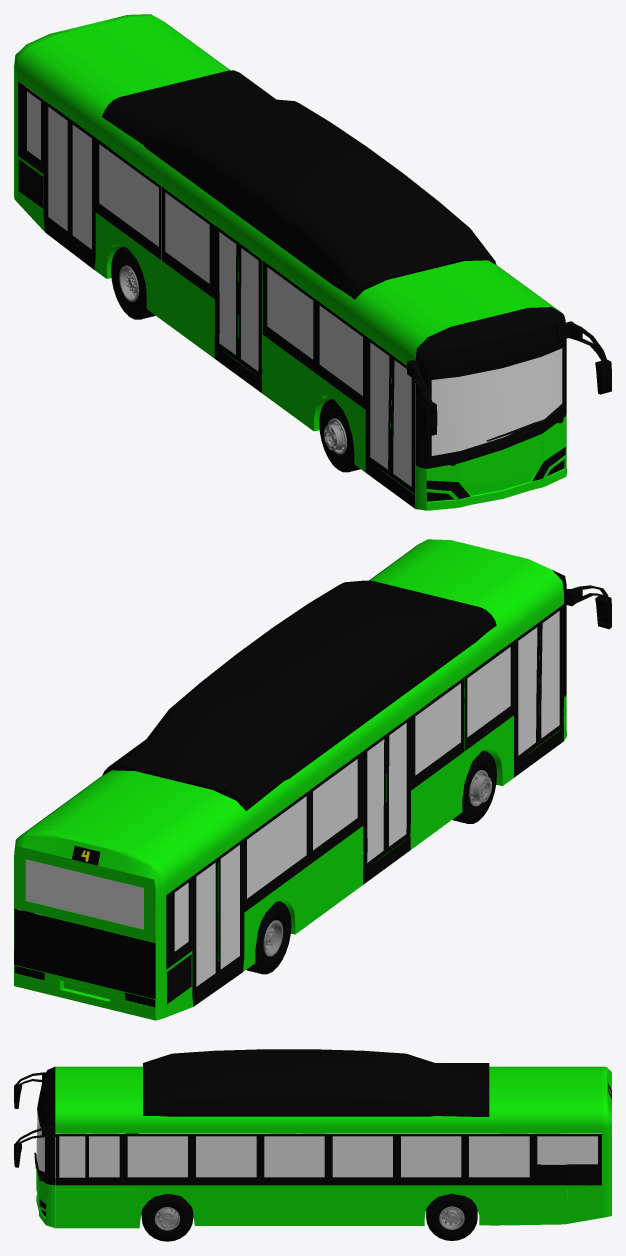
Rendered from TPL.fbx.
3 renders of one model, top to bottom at view 1: azimuth 30°, elevation 25°; view 2: azimuth 150°, elevation 25°; view 3: azimuth 270°, elevation 25°, orthographic. The views are drawn at different scales.
Parts seen in each view (by area): view 1: TPL; view 2: TPL; view 3: TPL.
Part boxes in pixels (x1,y1,x2,y2): TPL: (14,14,611,510); TPL: (14,539,611,1020); TPL: (14,1049,611,1241).
Size of the model in its own units: 307 by 342 by 1236.
